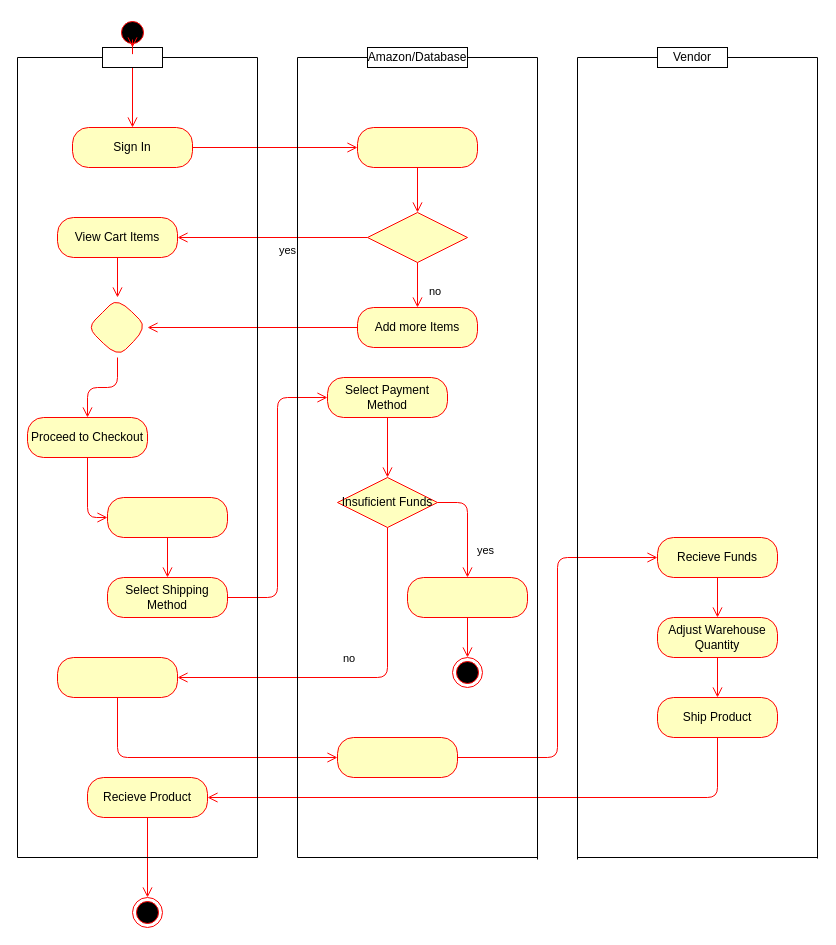
Image size: 836x945. Some labels were removed from this diagram. The shapes that lost their labels are listed below. From the top down, each one's centre as x and y in pixels, then its label:
At (132,57): "Consumer".
At (417,147): "Authorize user".
At (417,237): "Ready to Purchase".
At (167,517): "Select Shipping Address".
At (467,597): "Terminate Purchase".
At (117,677): "Review Order".
At (397,757): "Place Order".
